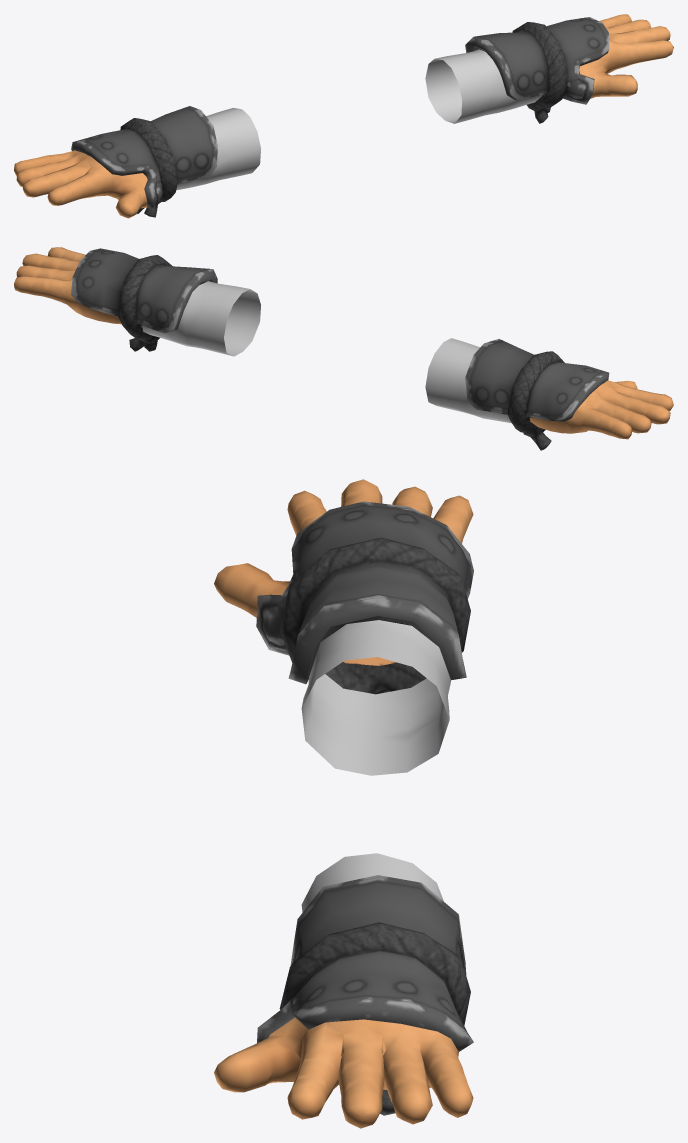
The picture shows the model from 3 angles, top to bottom: view 1: azimuth 30°, elevation 25°; view 2: azimuth 150°, elevation 25°; view 3: azimuth 270°, elevation 25°; orthographic projection. The views are drawn at different scales.
Parts seen in each view (by area): view 1: model_0_submesh_0, model_0_submesh_2, model_0_submesh_1; view 2: model_0_submesh_0, model_0_submesh_1, model_0_submesh_2; view 3: model_0_submesh_0, model_0_submesh_2, model_0_submesh_1.
Part boxes in pixels (x1=…): model_0_submesh_0: x1=71, y1=17, x2=609, y2=217; model_0_submesh_2: x1=14, y1=14, x2=673, y2=218; model_0_submesh_1: x1=176, y1=49, x2=542, y2=190; model_0_submesh_0: x1=71, y1=248, x2=609, y2=450; model_0_submesh_1: x1=142, y1=281, x2=511, y2=423; model_0_submesh_2: x1=14, y1=247, x2=673, y2=439; model_0_submesh_0: x1=256, y1=501, x2=473, y2=1115; model_0_submesh_2: x1=214, y1=479, x2=473, y2=1128; model_0_submesh_1: x1=301, y1=620, x2=450, y2=912.
Size of the model in its own units: 3.6 by 0.5022 by 0.628.
